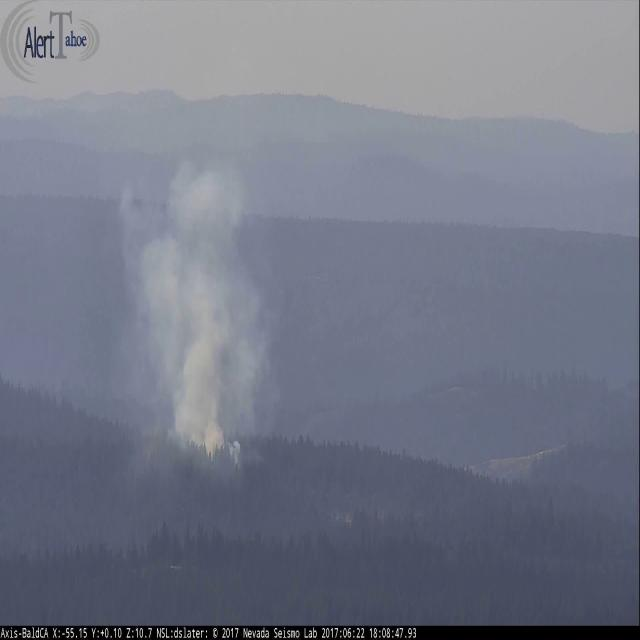smoke: (110, 124, 279, 476)
